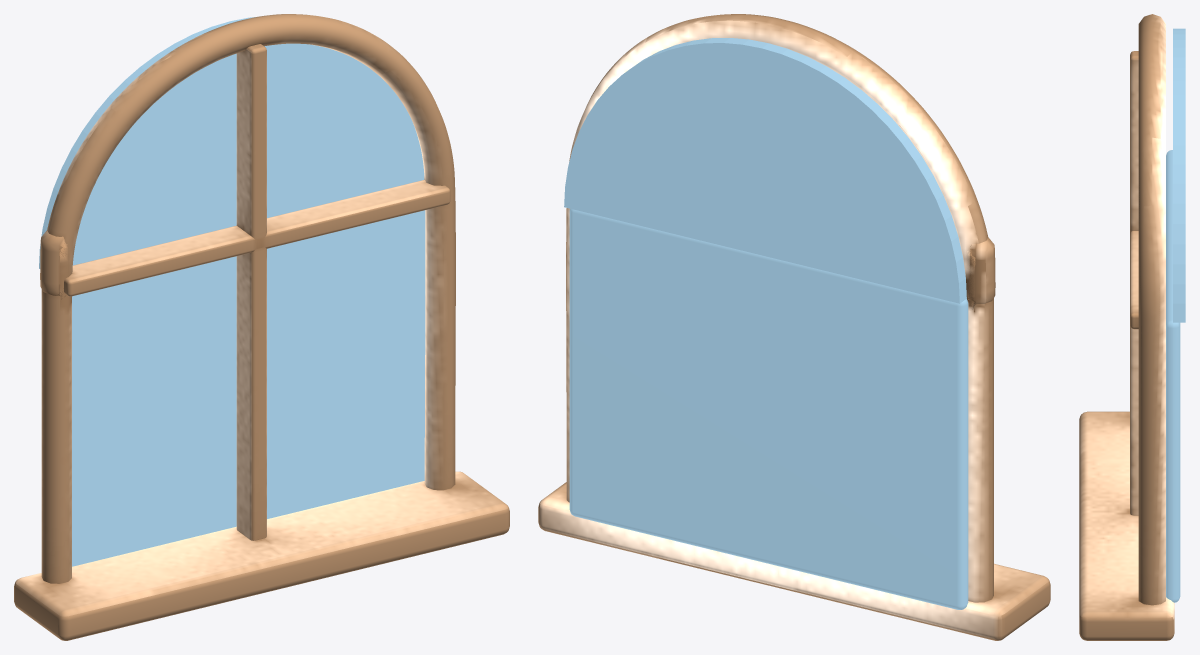
Rendered from windowArched.glb.
3 renders of one model, left to right at view 1: azimuth 30°, elevation 25°; view 2: azimuth 150°, elevation 25°; view 3: azimuth 270°, elevation 25°, orthographic. The views are drawn at different scales.
Visible parts, largest first — view 1: Arched glass lower pane, Arched sky glass, Arched oak frame, Arched window sill, Arched center mullion, Arched transom bar; view 2: Arched glass lower pane, Arched sky glass, Arched oak frame, Arched window sill; view 3: Arched oak frame, Arched window sill, Arched glass lower pane, Arched sky glass, Arched center mullion, Arched transom bar.
Boxes of the visible parts, box(x1,y1,x2,y2) form: Arched glass lower pane: box(72, 210, 425, 566); Arched sky glass: box(39, 17, 424, 268); Arched oak frame: box(40, 14, 455, 583); Arched window sill: box(14, 471, 509, 640); Arched center mullion: box(236, 44, 266, 540); Arched transom bar: box(64, 180, 450, 296); Arched glass lower pane: box(569, 209, 968, 609); Arched sky glass: box(564, 38, 966, 303); Arched oak frame: box(566, 14, 995, 602); Arched window sill: box(538, 482, 1050, 640); Arched oak frame: box(1138, 14, 1165, 605); Arched window sill: box(1079, 411, 1174, 640); Arched glass lower pane: box(1166, 150, 1180, 602); Arched sky glass: box(1173, 28, 1185, 322); Arched center mullion: box(1130, 51, 1138, 515); Arched transom bar: box(1130, 231, 1138, 329).
Size of the model in its own units: 1.53 by 1.75 by 0.335.
